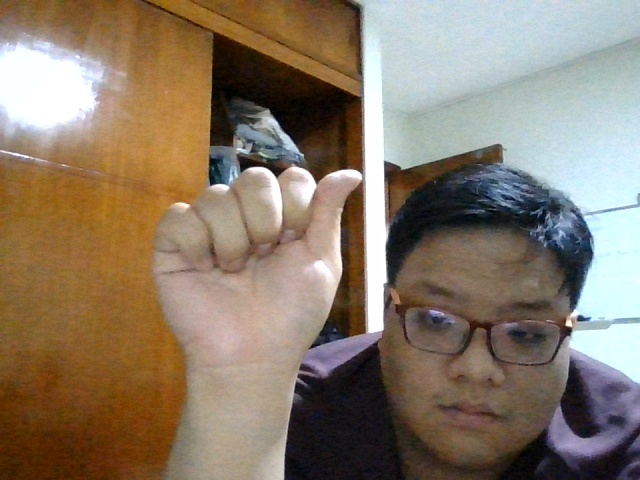a: (146, 160, 367, 369)
